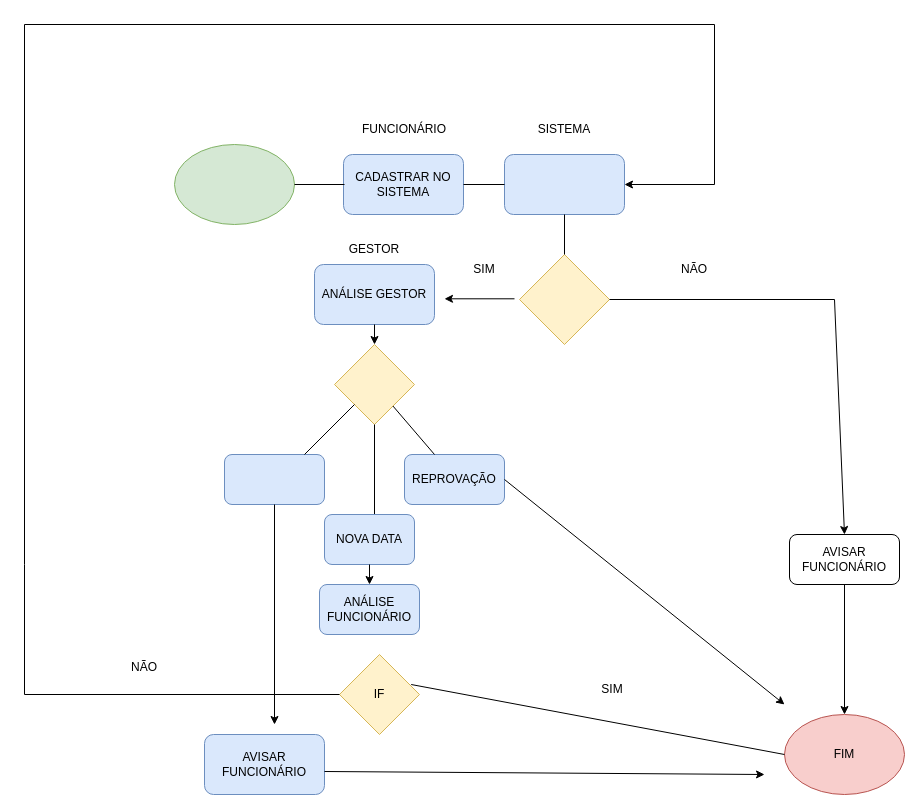
Image size: 922x812. Some labels were removed from this diagram. The centre of each missing label's shape, as x and y in pixels:
"ANÁLISE" goes at point (374, 384).
"APROVAÇÃO" goes at point (274, 479).
"DISPONÍVEL?" goes at point (564, 299).
"INIÍCIO" goes at point (234, 184).
"SISTEMA ANALISA POSSIBILIDADE" goes at point (564, 184).
